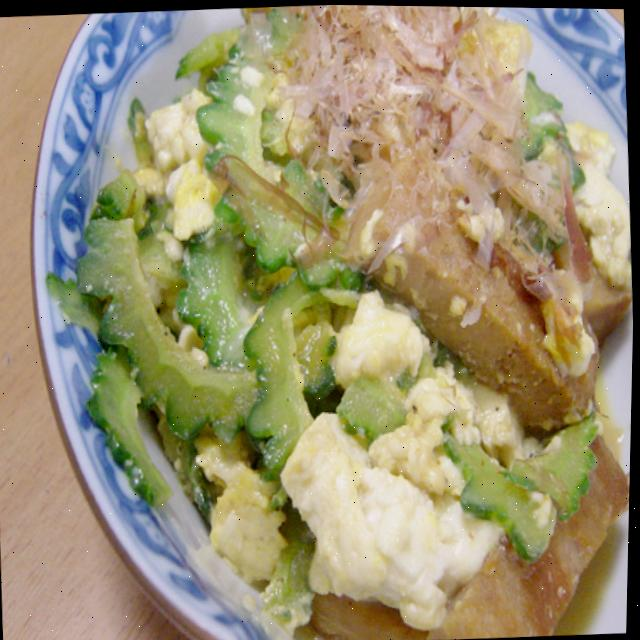熟制海鲜: (10, 0, 640, 640)
